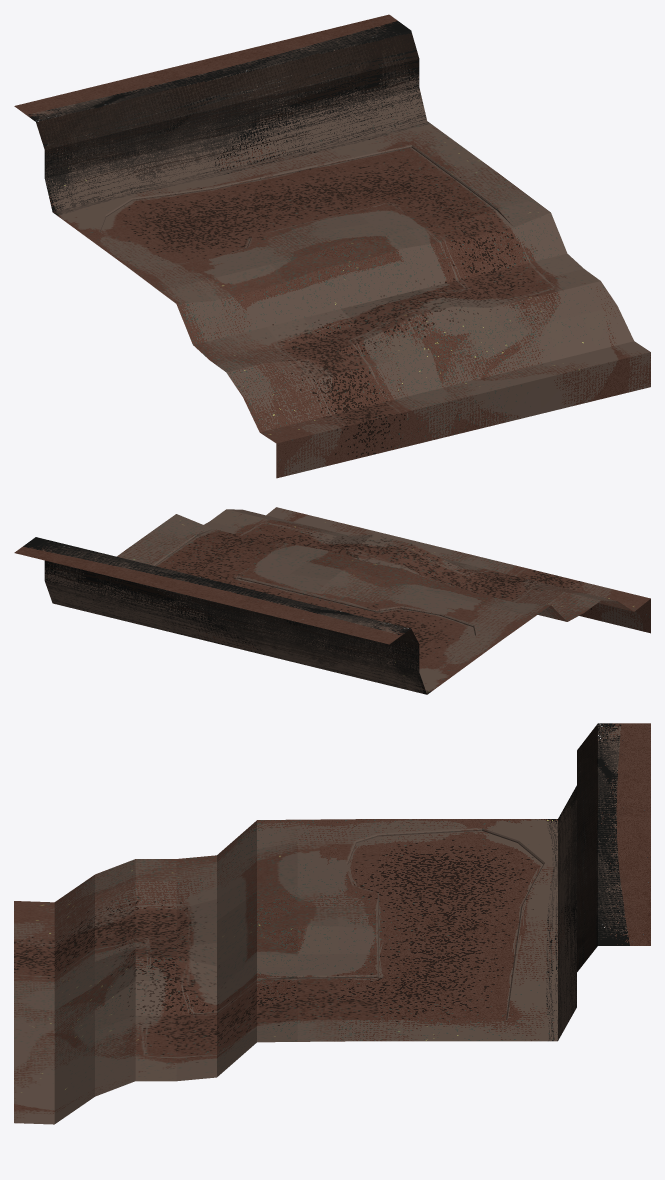
Rendered from HillBaseFBX.fbx.
3 renders of one model, top to bottom at view 1: azimuth 30°, elevation 25°; view 2: azimuth 150°, elevation 25°; view 3: azimuth 270°, elevation 25°, orthographic. The views are drawn at different scales.
Visible parts, largest first — view 1: BogArenaBase; view 2: BogArenaBase; view 3: BogArenaBase.
Part boxes in pixels (left/top/right/bottom): BogArenaBase: left=14, top=14, right=650, bottom=478; BogArenaBase: left=14, top=507, right=650, bottom=694; BogArenaBase: left=14, top=723, right=650, bottom=1124.
Size of the model in its own units: 40271 by 18527 by 48688.
